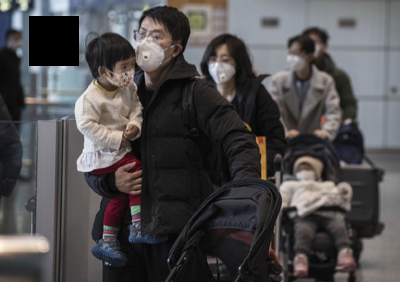with_mask: (133, 25, 171, 72), (207, 51, 236, 86), (109, 57, 137, 87), (285, 48, 306, 71), (294, 164, 315, 182)
